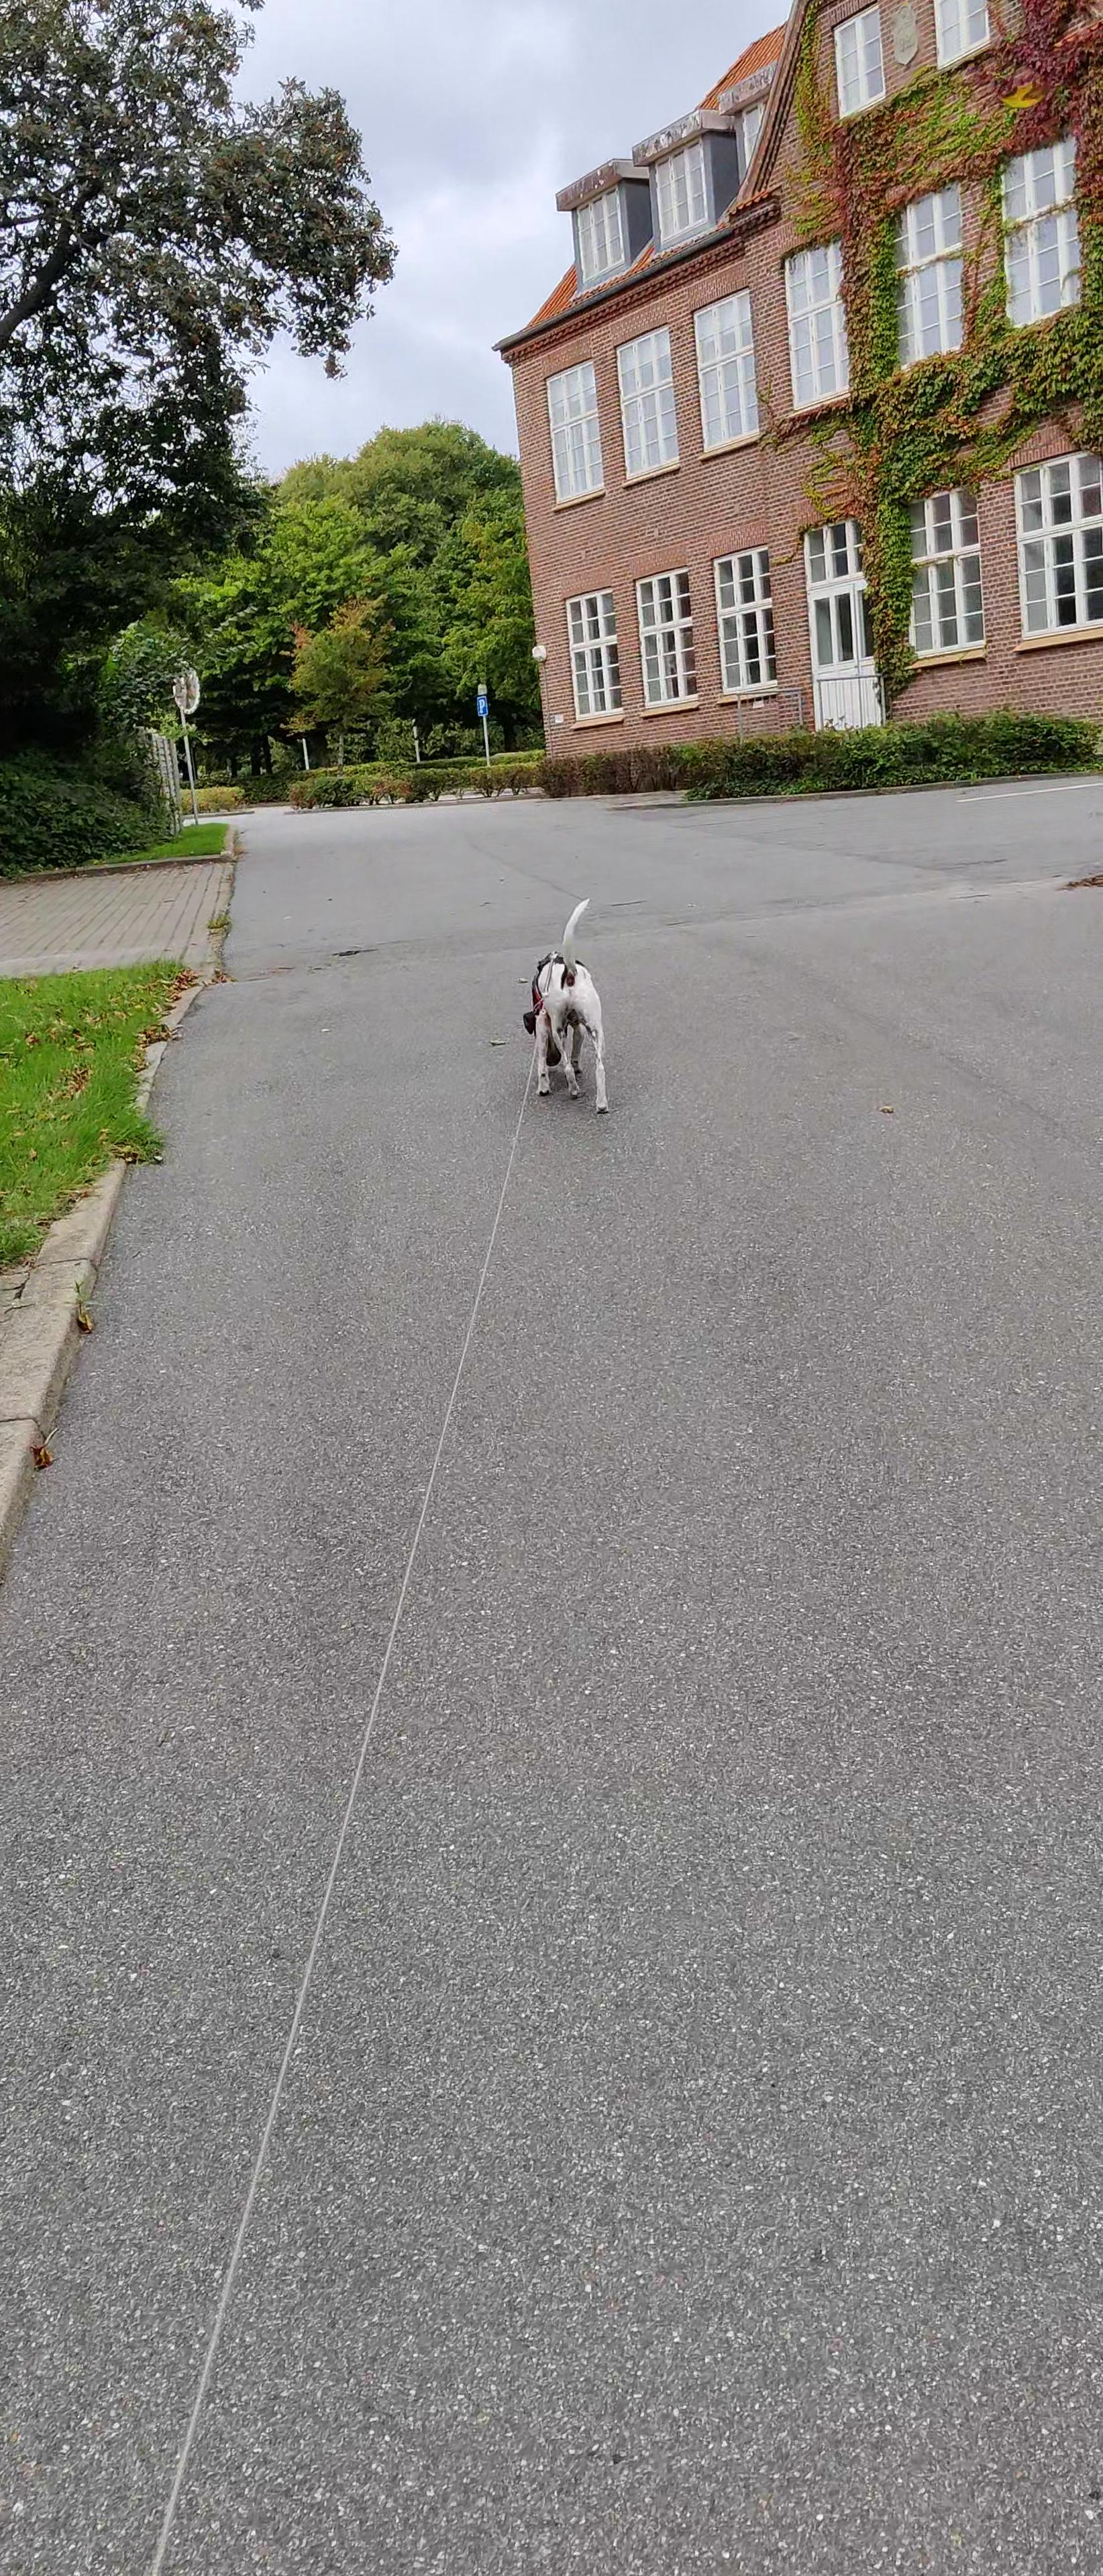Dog: (518, 895, 611, 1117)
